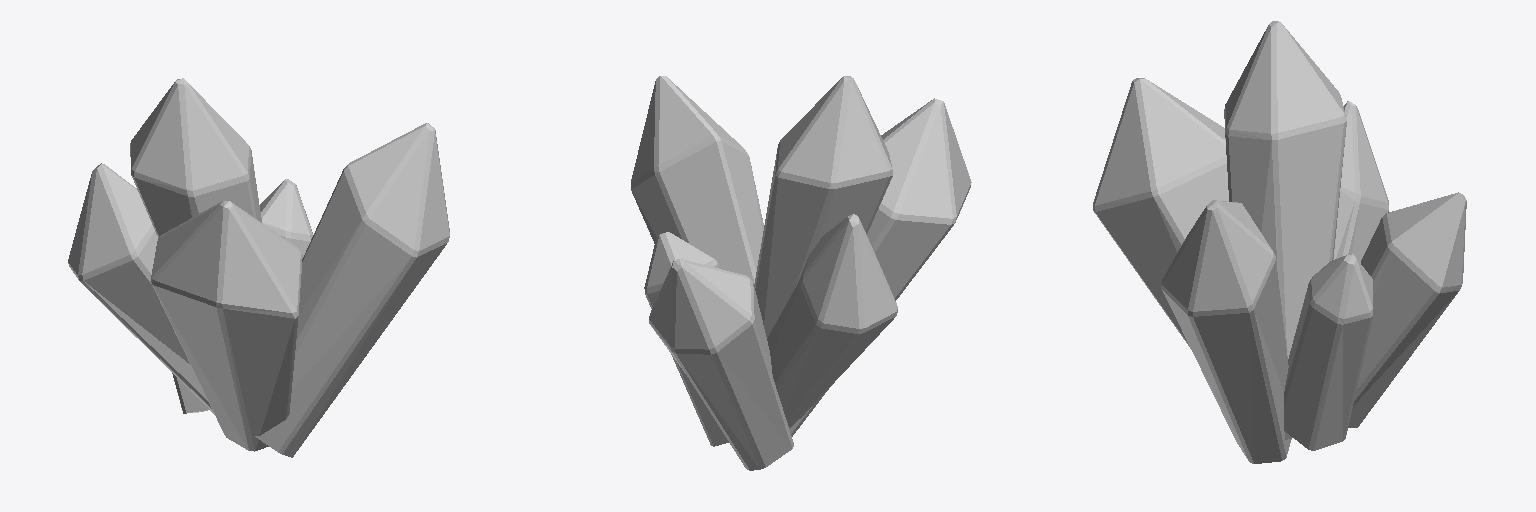
The model's file is crystal_1_010.obj.
3 views of the same model, side by side, from view 1: azimuth 30°, elevation 25°; view 2: azimuth 150°, elevation 25°; view 3: azimuth 270°, elevation 25° (orthographic).
Visible parts, largest first — view 1: crystal_4_bevel.001_Cylinder.028; view 2: crystal_4_bevel.001_Cylinder.028; view 3: crystal_4_bevel.001_Cylinder.028.
Part boxes in pixels (x1,y1,x2,y2): crystal_4_bevel.001_Cylinder.028: (68,78,449,457); crystal_4_bevel.001_Cylinder.028: (631,76,971,470); crystal_4_bevel.001_Cylinder.028: (1093,21,1466,463).
Bounding box in the file's own units: 1.3 × 1.59 × 1.37.